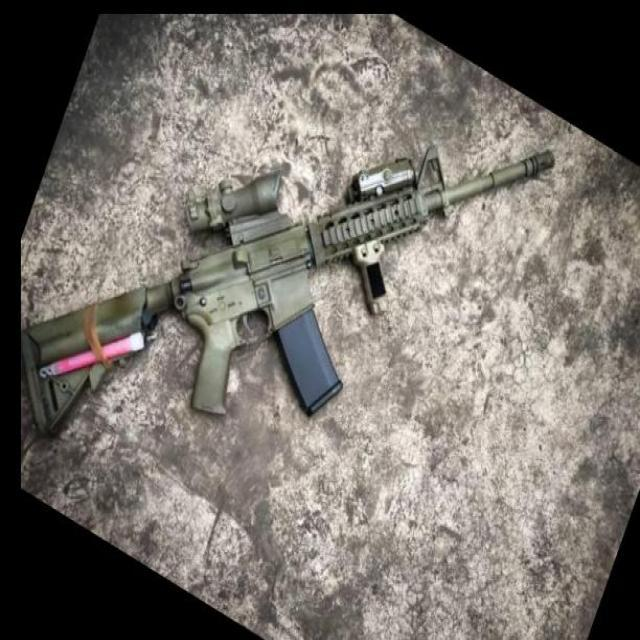weapon: (21, 148, 556, 441)
